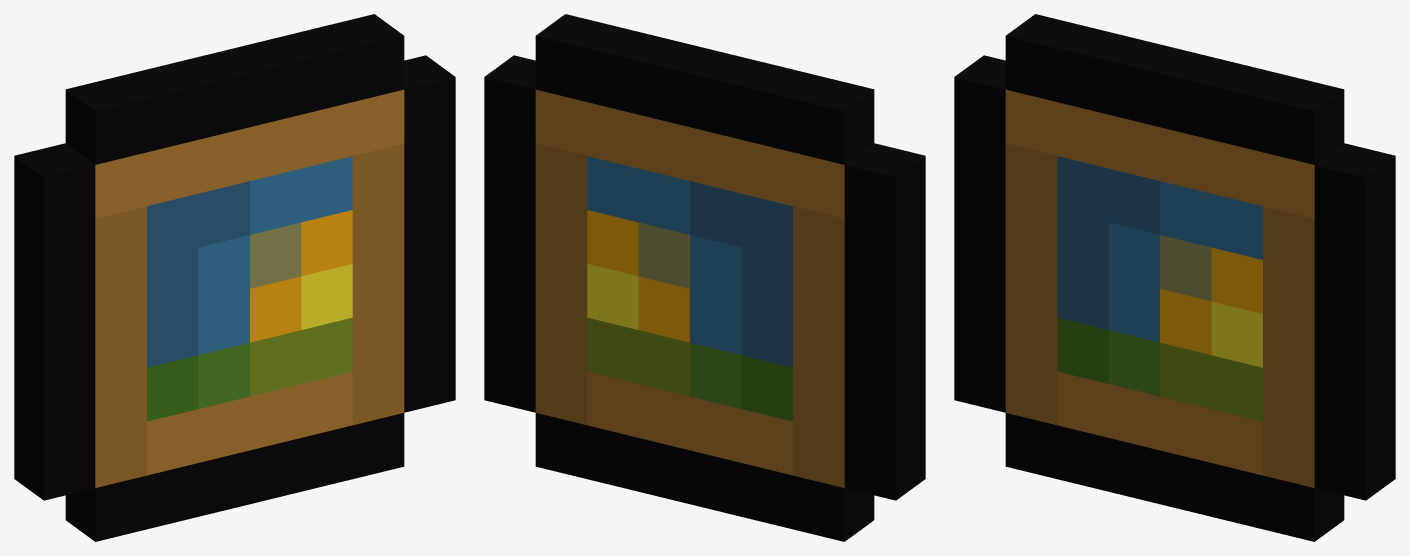
The model's file is clock_wood_sunset.glb.
3 views of the same model, side by side, from view 1: azimuth 30°, elevation 25°; view 2: azimuth 150°, elevation 25°; view 3: azimuth 330°, elevation 25° (orthographic).
Visible parts, largest first — view 1: generated(Clone); view 2: generated(Clone); view 3: generated(Clone).
Boxes of the visible parts, left/top/right/bottom form: generated(Clone): left=14, top=14, right=455, bottom=541; generated(Clone): left=484, top=14, right=925, bottom=541; generated(Clone): left=954, top=14, right=1395, bottom=541.
Size of the model in its own units: 8 by 8 by 1.
1 material, 1 textured.
